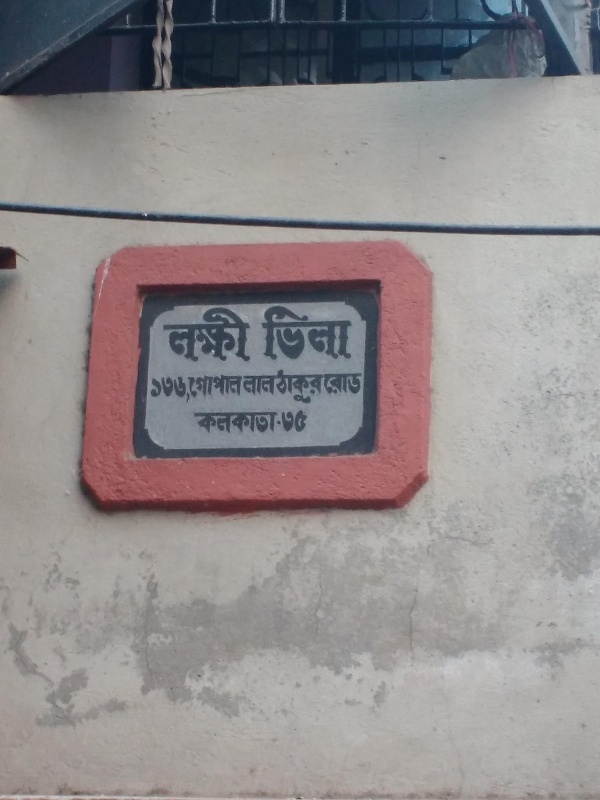text: (161, 300, 176, 370), (177, 300, 192, 370), (193, 300, 208, 370), (209, 300, 224, 370), (225, 300, 240, 370), (241, 300, 256, 370), (273, 300, 288, 362), (289, 300, 304, 362), (305, 300, 320, 362), (321, 300, 336, 362), (337, 300, 352, 362), (261, 300, 272, 362), (289, 370, 304, 404), (305, 370, 320, 404), (161, 376, 176, 407), (193, 372, 208, 403), (209, 372, 224, 403), (225, 372, 240, 403), (177, 376, 191, 407), (209, 407, 224, 434), (225, 407, 240, 434), (241, 407, 256, 434), (257, 407, 272, 434), (194, 407, 208, 434), (257, 374, 272, 399), (289, 408, 304, 433), (353, 300, 359, 362), (337, 373, 352, 396), (278, 370, 288, 404), (243, 374, 256, 399), (323, 373, 336, 396), (152, 376, 160, 407), (353, 373, 362, 396), (321, 370, 327, 404), (281, 408, 288, 433), (273, 407, 279, 434), (257, 300, 259, 370), (188, 372, 192, 403), (241, 372, 245, 403), (305, 408, 309, 433), (273, 374, 276, 399)
